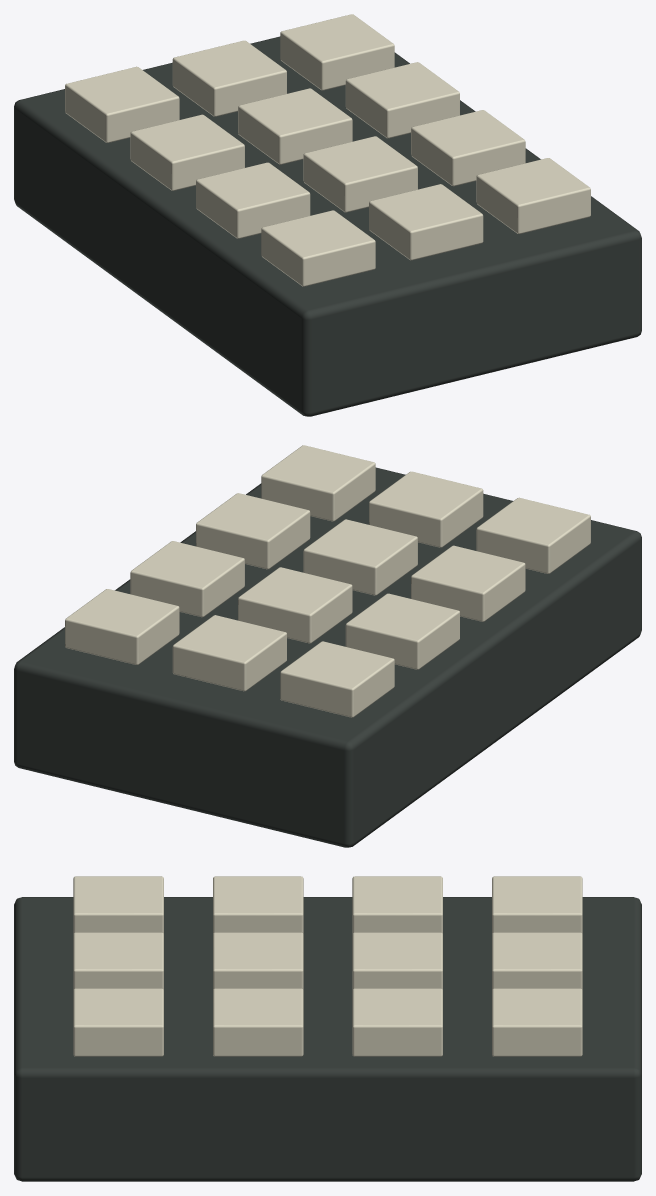
File: scavengers-loot-library-keypad-c0e75832__2516.glb
3 renders of one model, top to bottom at view 1: azimuth 30°, elevation 25°; view 2: azimuth 150°, elevation 25°; view 3: azimuth 270°, elevation 25°, orthographic. The views are drawn at different scales.
Visible parts, largest first — view 1: keypad; view 2: keypad; view 3: keypad.
Boxes of the visible parts, x1,y1,x2,y2 form: keypad: (14,14,641,416); keypad: (14,445,641,847); keypad: (14,876,641,1181).
Bounding box in the file's own units: 0.06 × 0.023 × 0.09.
